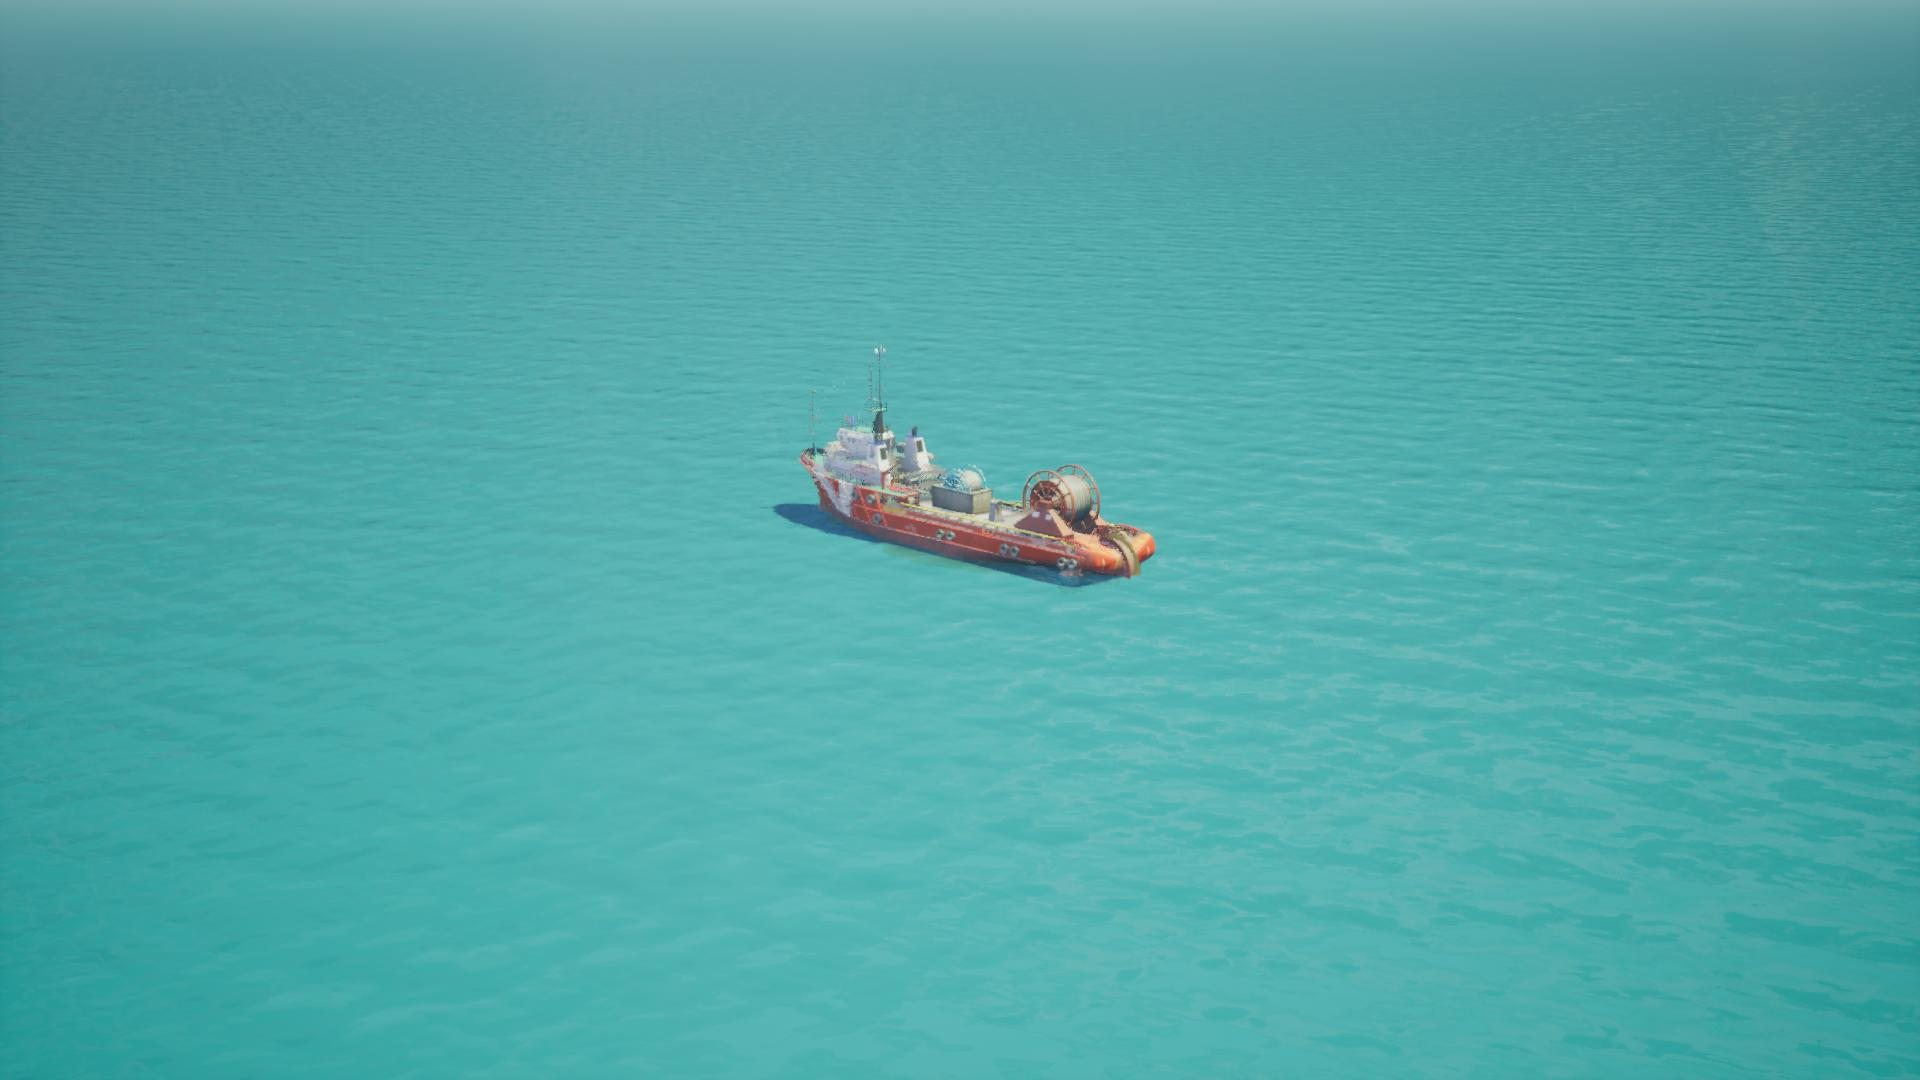Tug Boat: (782, 344, 1142, 591)
